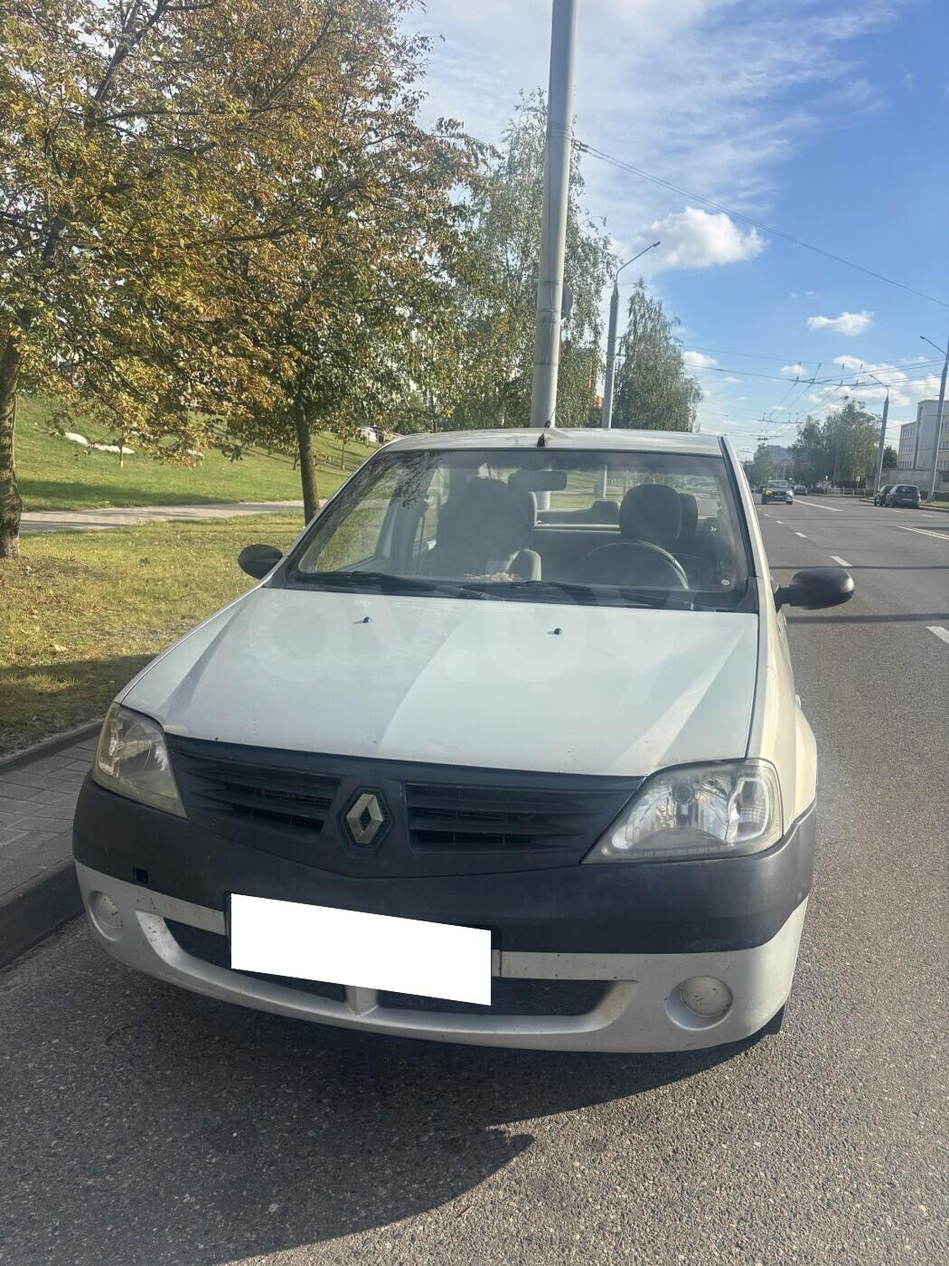Logan_2004-2009: (63, 421, 848, 1087)
